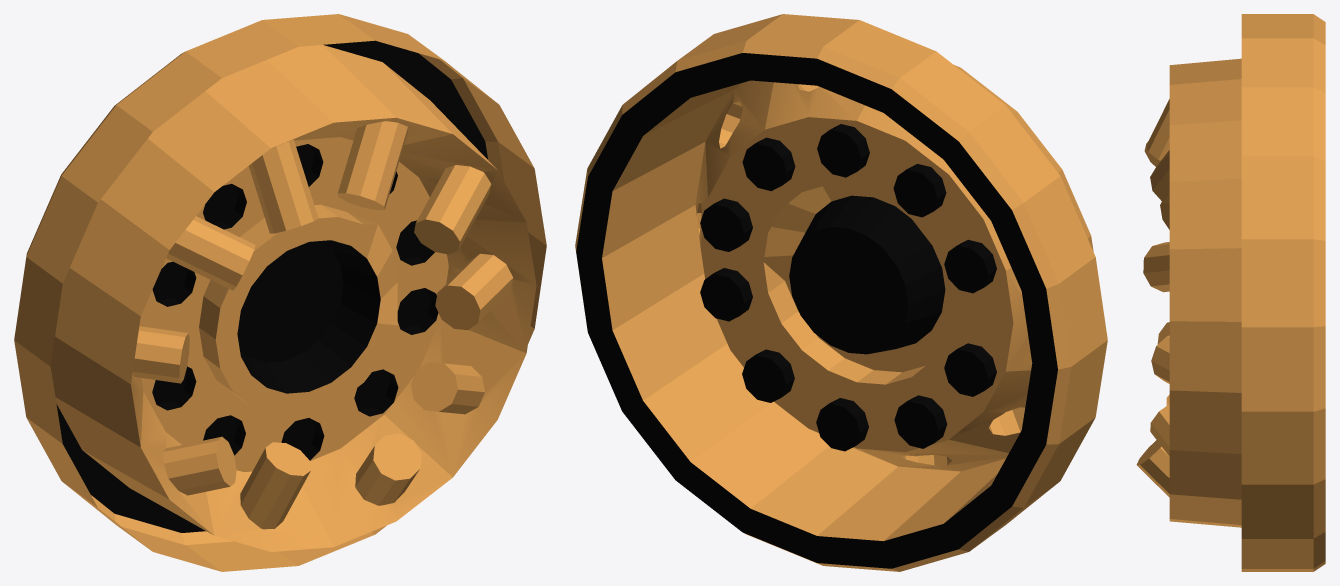
Rendered from Ring5_rear.fbx.
The picture shows the model from 3 angles, left to right: view 1: azimuth 30°, elevation 25°; view 2: azimuth 150°, elevation 25°; view 3: azimuth 270°, elevation 25°; orthographic projection.
Visible parts, largest first — view 1: polySurface2; view 2: polySurface2; view 3: polySurface2.
Boxes of the visible parts, left/top/right/bottom form: polySurface2: left=14, top=14, right=546, bottom=571; polySurface2: left=575, top=14, right=1107, bottom=571; polySurface2: left=1136, top=14, right=1325, bottom=571.
Bounding box in the file's own units: 0.0277 × 0.0277 × 0.00933.
